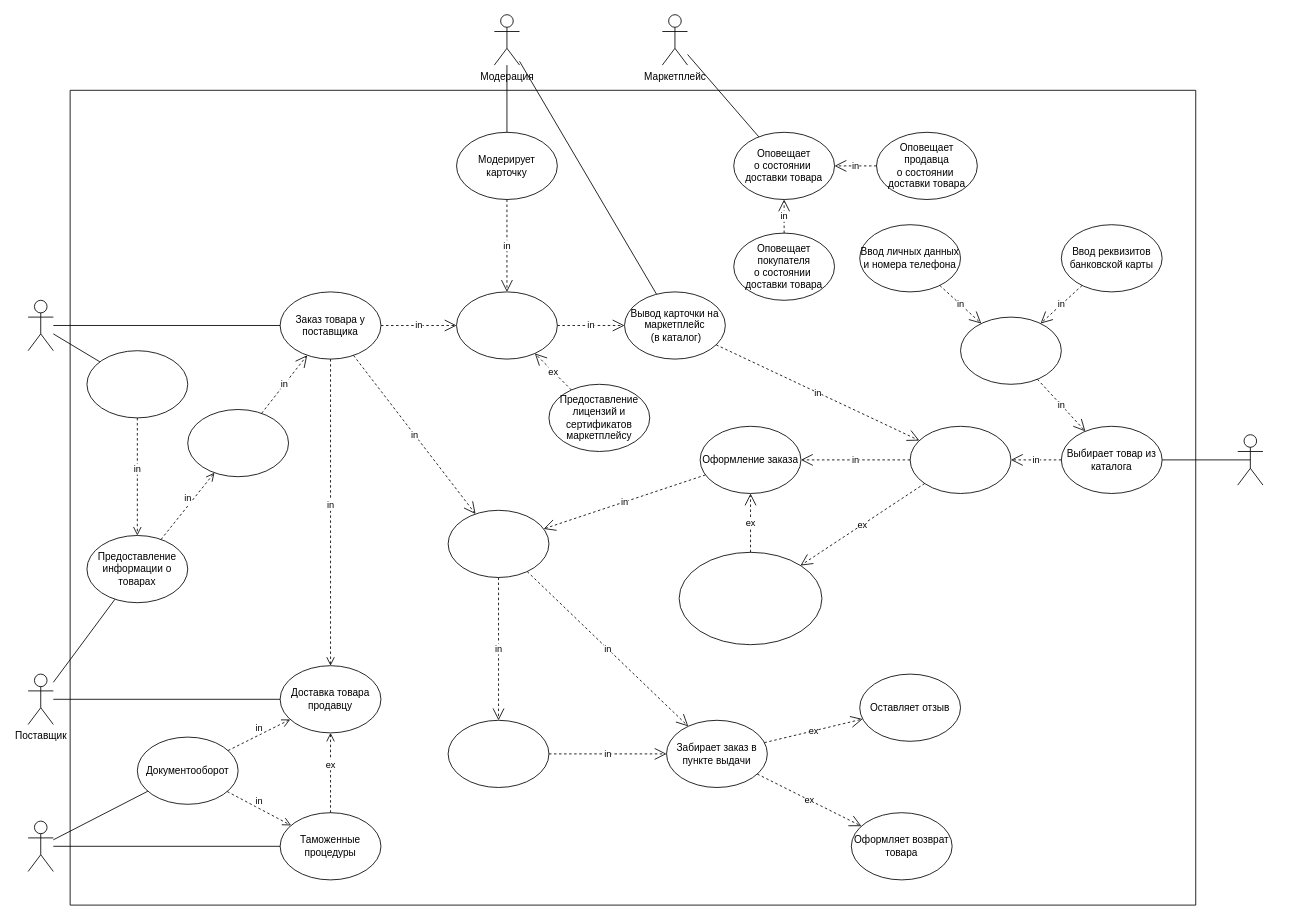
Image size: 1291x920. Some labels were removed from this diagram. The shapes that lost their labels are listed below. From the top down, each one's centre as x and y in pixels, then its label:
the point at 40,325: Продавец
the point at 506,325: Создание карточки товара
the point at 1010,350: Регистрация на маркетплейсе
the point at 137,384: Запрос на предоставление информации о товарах
the point at 238,443: Получение информации о товарах
the point at 960,459: Добавление товара в корзину
the point at 1250,459: Покупатель
the point at 498,543: Сборка заказа
the point at 750,598: Связывается с продавцом для получения дополнительной информации о товаре
the point at 498,753: Доставка заказа в пункт выдачи
the point at 40,846: Таможня
